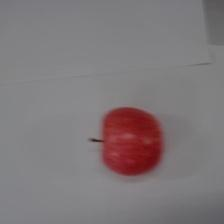red: (89, 107, 164, 177)
